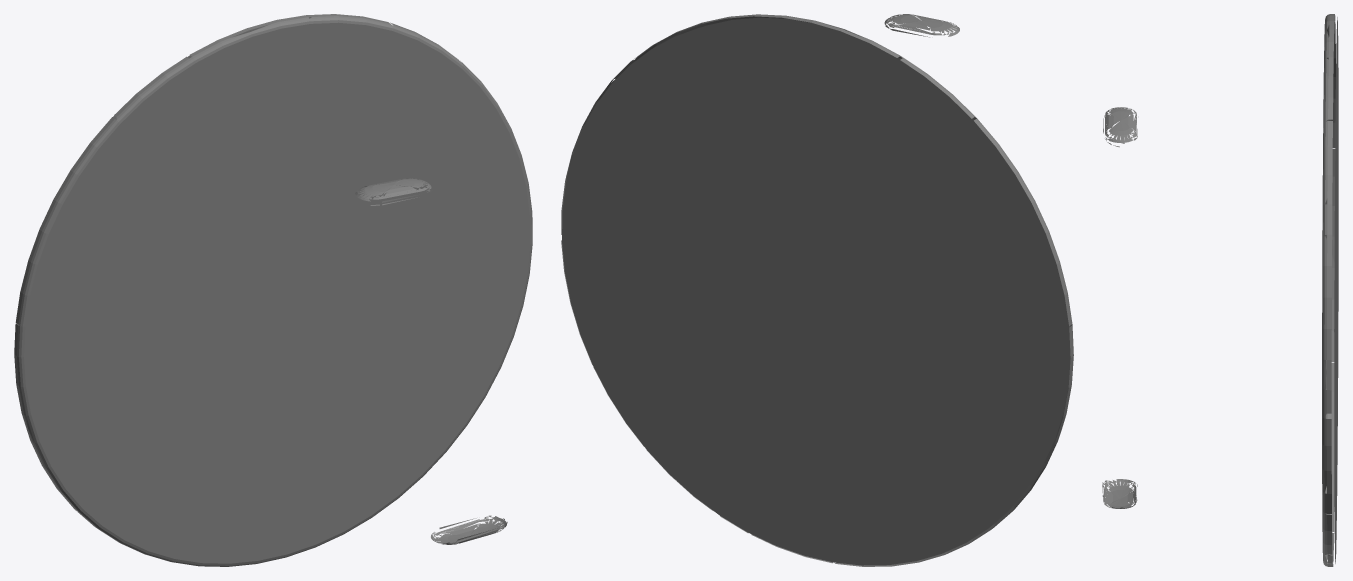
The picture shows the model from 3 angles, left to right: view 1: azimuth 30°, elevation 25°; view 2: azimuth 150°, elevation 25°; view 3: azimuth 270°, elevation 25°; orthographic projection. The views are drawn at different scales.
Size of the model in its own units: 0.1129 by 0.1129 by 0.0483.
